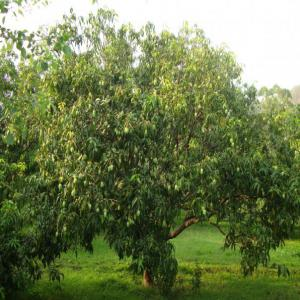Tree: (34, 10, 232, 289), (224, 74, 300, 281)
